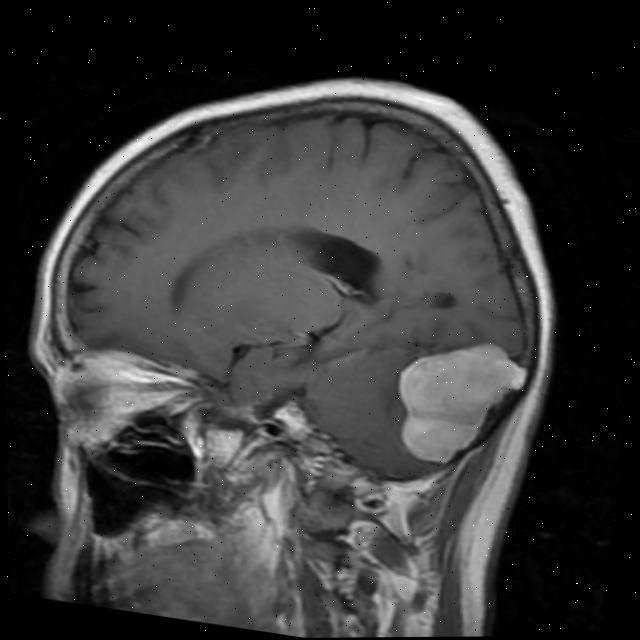Meningioma: (385, 327, 537, 477)
